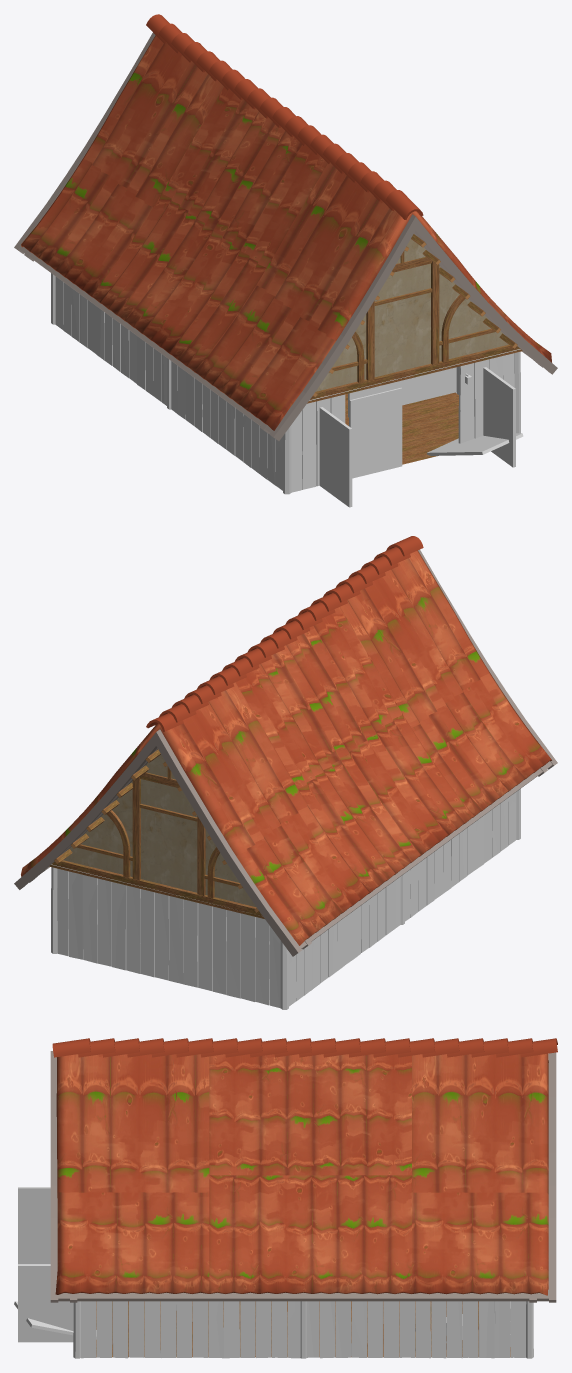
The model's file is fx_barn.gltf.
3 views of the same model, one above another, from view 1: azimuth 30°, elevation 25°; view 2: azimuth 150°, elevation 25°; view 3: azimuth 270°, elevation 25° (orthographic). The views are drawn at different scales.
Parts seen in each view (by area): view 1: T1_KitRoofRoundTiles8x14090, T1_KitRoofFrontBrick8091, T1_DoorLeaf121, T2_DoorLeaf121, T2_DoorLeaf122, T1_Lintel081, T1_KitFloorWoodLight115, T1_Plank005, T1_KitFloorWoodLight107, T1_DoorLeaf122, T2_Plank002, T2_Plank006 (+1 smaller); view 2: T1_KitRoofRoundTiles8x14090, T1_KitRoofFrontBrick8092, T2_Plank018, T2_Plank014, T2_Plank013, T1_Plank011, T1_Plank019, T1_Plank021, T1_Plank010, T2_Plank024, T2_Plank017, T1_Plank012 (+10 smaller); view 3: T1_KitRoofRoundTiles8x14090, T2_DoorLeaf122, T2_DoorLeaf121, T1_Plank057, T2_Plank080, T1_Plank074, T1_Plank065, T1_Plank072, T2_Plank056, T2_Plank059, T2_Plank060, T2_Plank063 (+24 smaller).
Part boxes in pixels (<box>): T1_KitRoofRoundTiles8x14090: <box>14,14,557,440</box>; T1_KitRoofFrontBrick8091: <box>307,234,522,403</box>; T1_DoorLeaf121: <box>349,387,402,478</box>; T2_DoorLeaf121: <box>319,407,352,507</box>; T2_DoorLeaf122: <box>483,367,515,467</box>; T1_Lintel081: <box>348,367,455,417</box>; T1_KitFloorWoodLight115: <box>402,392,458,425</box>; T1_Plank005: <box>459,363,474,443</box>; T1_KitFloorWoodLight107: <box>402,426,448,464</box>; T1_DoorLeaf122: <box>427,433,523,455</box>; T2_Plank002: <box>302,402,316,489</box>; T2_Plank006: <box>474,359,488,438</box>; T1_KitRoofRoundTiles8x14090: <box>14,536,557,956</box>; T1_KitRoofFrontBrick8092: <box>49,749,264,918</box>; T2_Plank018: <box>140,889,154,977</box>; T2_Plank014: <box>198,903,212,990</box>; T2_Plank013: <box>212,906,226,994</box>; T1_Plank011: <box>241,913,255,1001</box>; T1_Plank019: <box>126,885,140,973</box>; T1_Plank021: <box>97,878,111,966</box>; T1_Plank010: <box>255,917,269,1005</box>; T2_Plank024: <box>57,868,68,956</box>; T2_Plank017: <box>155,892,168,980</box>; T1_Plank012: <box>226,910,240,998</box>; T1_KitRoofRoundTiles8x14090: <box>50,1038,557,1302</box>; T2_DoorLeaf122: <box>18,1264,73,1342</box>; T2_DoorLeaf121: <box>18,1187,50,1264</box>; T1_Plank057: <box>144,1301,160,1357</box>; T2_Plank080: <box>510,1301,526,1357</box>; T1_Plank074: <box>415,1301,430,1358</box>; T1_Plank065: <box>272,1301,287,1357</box>; T1_Plank072: <box>383,1301,398,1357</box>; T2_Plank056: <box>129,1301,144,1357</box>; T2_Plank059: <box>176,1301,191,1357</box>; T2_Plank060: <box>192,1301,207,1357</box>; T2_Plank063: <box>240,1301,255,1357</box>.
Size of the model in its own units: 9.95 by 9.03 by 16.85.
12 materials, 12 textured.
